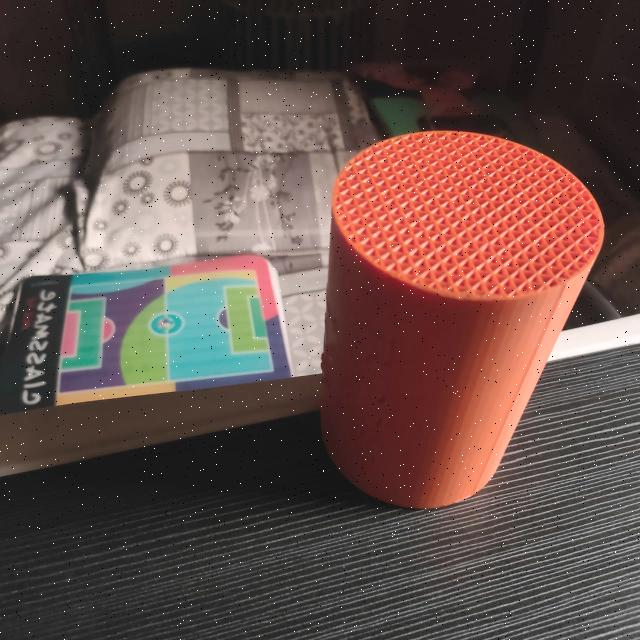Cylinder: (318, 128, 606, 510)
